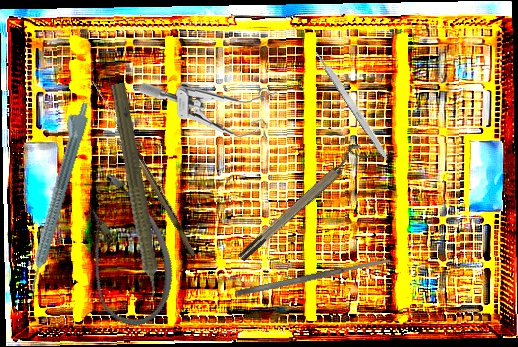Cannula: (55, 164, 192, 337)
Fixation Ring: (231, 140, 370, 264)
Handpiece: (101, 81, 169, 312), (17, 97, 93, 295)
Scalpel Handle: (312, 47, 395, 166)
Spatula Surgical: (234, 256, 393, 298)
Speculum: (138, 77, 281, 143)
Surgical Spoon: (87, 78, 201, 258)
